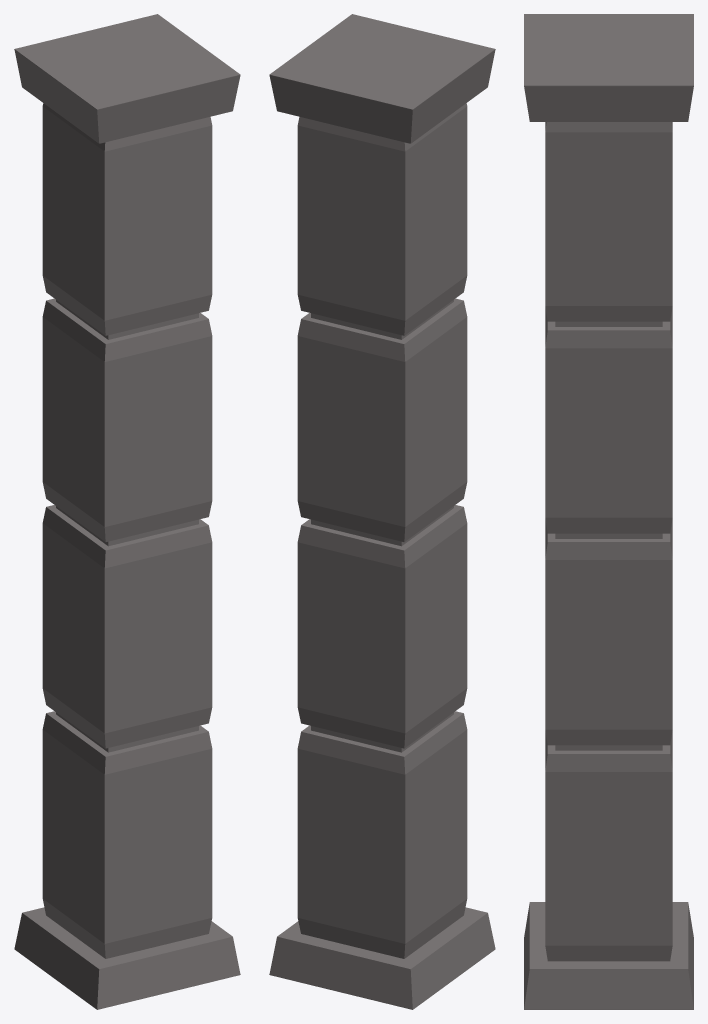
File: Pillar.fbx
3 renders of one model, left to right at view 1: azimuth 30°, elevation 25°; view 2: azimuth 150°, elevation 25°; view 3: azimuth 270°, elevation 25°, orthographic. The views are drawn at different scales.
Visible parts, largest first — view 1: Pillar; view 2: Pillar; view 3: Pillar.
Boxes of the visible parts, x1,y1,x2,y2 form: Pillar: [14, 14, 240, 1009]; Pillar: [269, 14, 495, 1009]; Pillar: [524, 14, 693, 1009].
Size of the model in its own units: 100 by 600 by 100.
